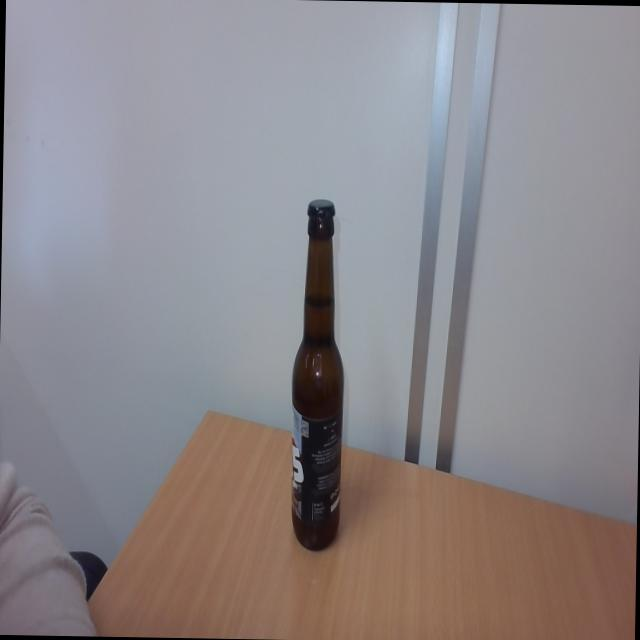Bottle: (288, 223, 346, 555)
Cap: (304, 195, 336, 228)
Label: (289, 409, 343, 524)
